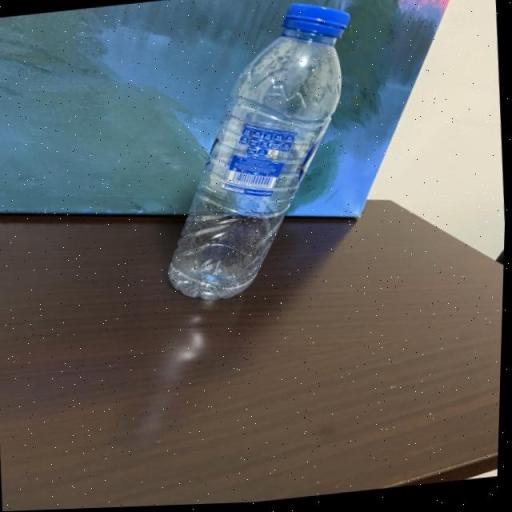plastic: (169, 5, 350, 304)
